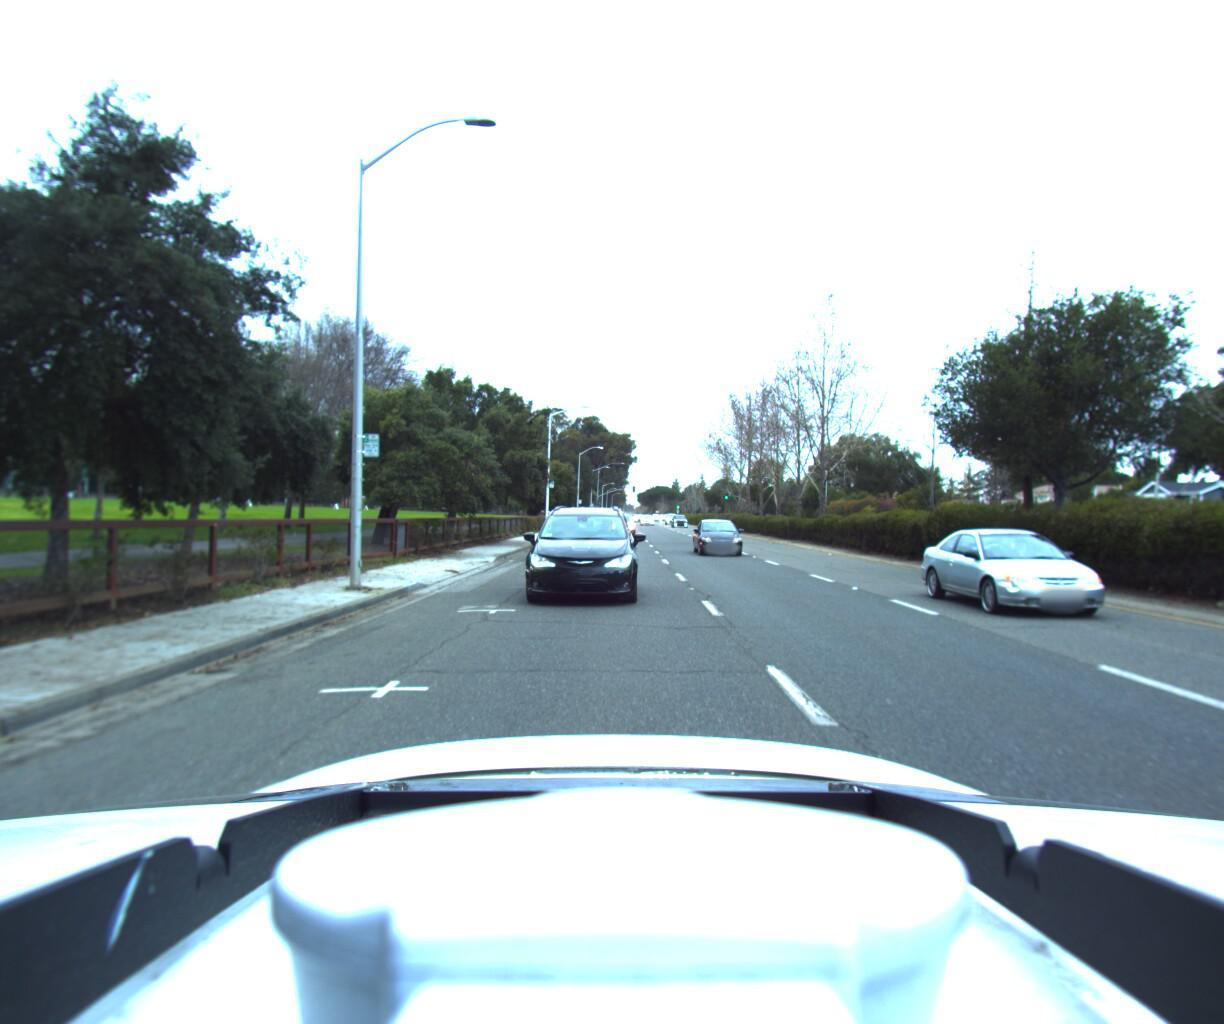car: (940, 524, 1195, 633), (522, 500, 635, 605), (692, 515, 753, 559), (609, 516, 638, 541)
